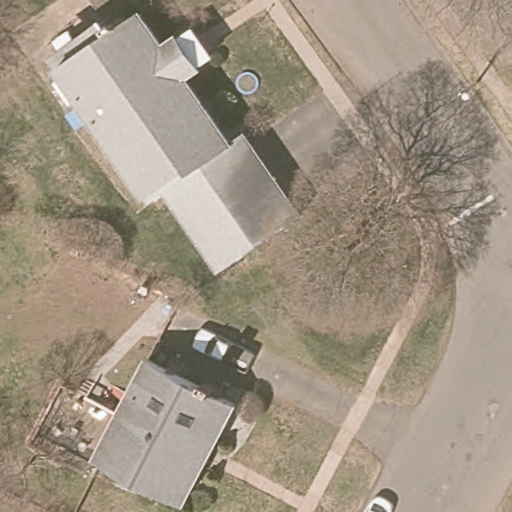DT: (457, 59, 493, 101)
